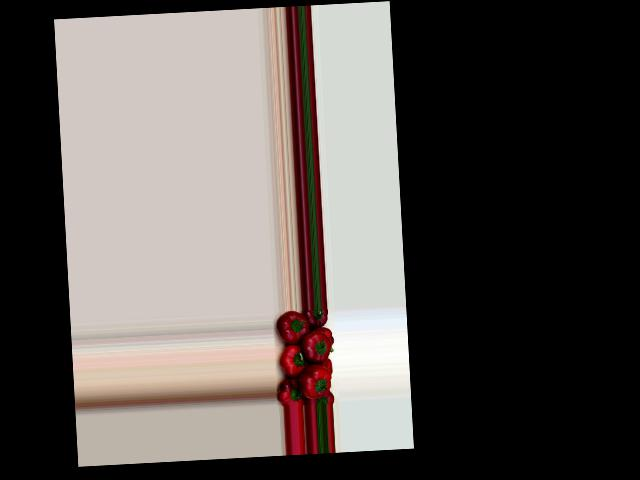bell_pepper: (320, 358, 334, 372)
